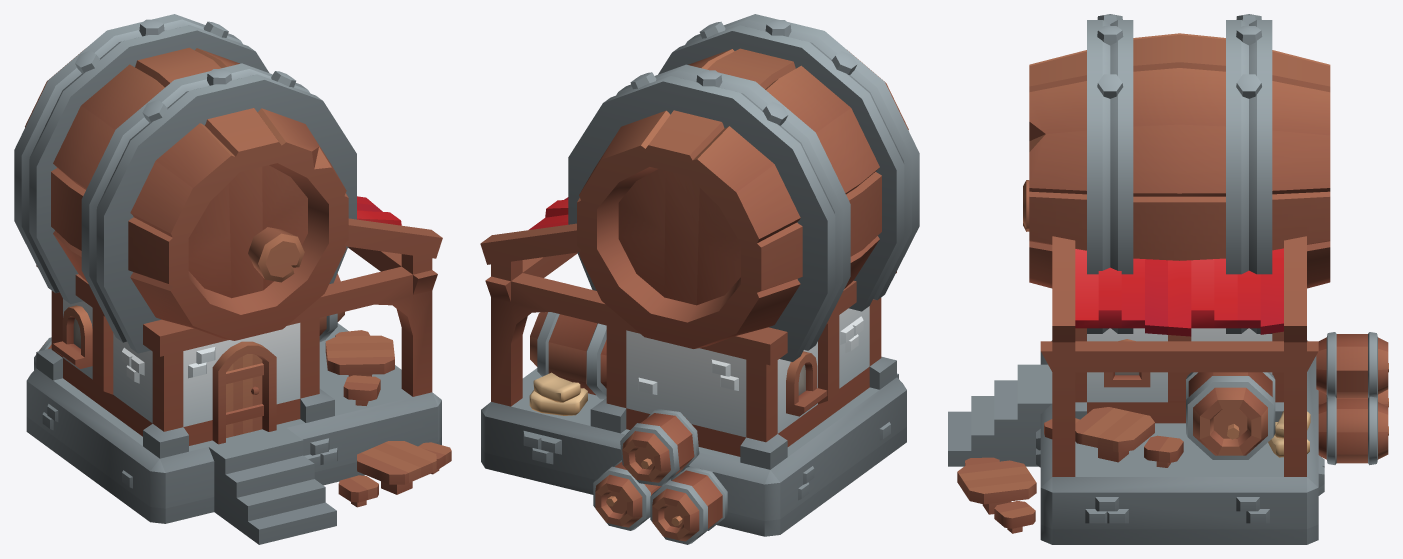
Rendered from building_tavern_red.glb.
The picture shows the model from 3 angles, left to right: view 1: azimuth 30°, elevation 25°; view 2: azimuth 150°, elevation 25°; view 3: azimuth 270°, elevation 25°; orthographic projection. The views are drawn at different scales.
Visible parts, largest first — view 1: building_tavern_red; view 2: building_tavern_red; view 3: building_tavern_red.
Boxes of the visible parts, x1,y1,x2,y2 form: building_tavern_red: (14,14,451,544); building_tavern_red: (480,14,919,544); building_tavern_red: (948,14,1388,544).
Size of the model in its own units: 1.17 by 1.4 by 1.33.
1 material, 1 textured.
